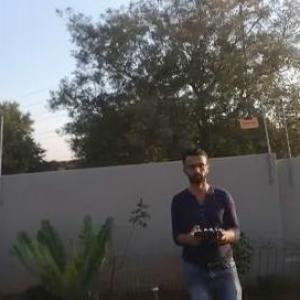follow: (167, 147, 248, 299)
